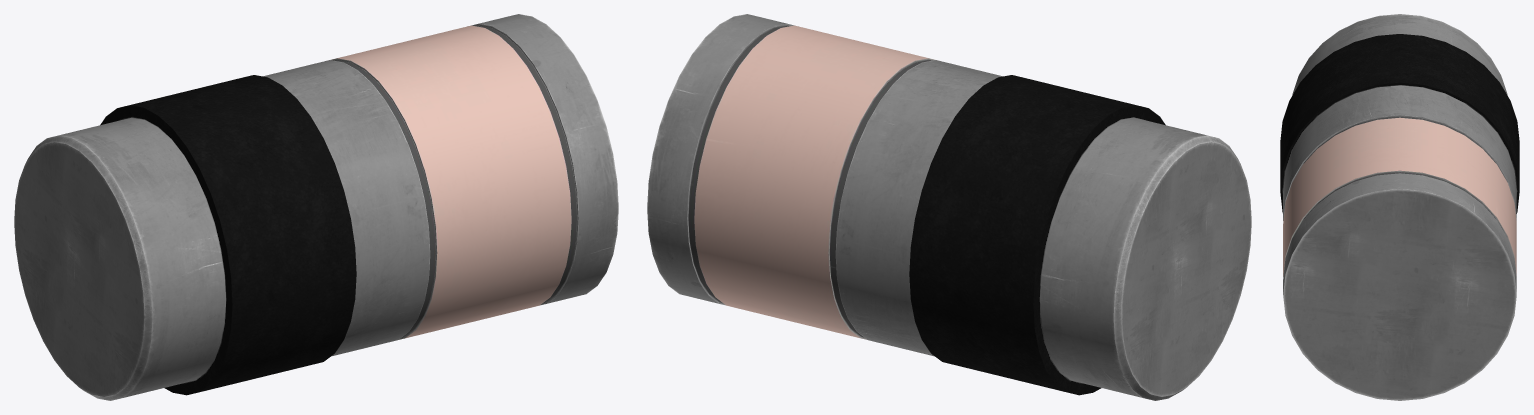
File: pommel_6_c_c.glb
3 renders of one model, left to right at view 1: azimuth 30°, elevation 25°; view 2: azimuth 150°, elevation 25°; view 3: azimuth 270°, elevation 25°, orthographic. The views are drawn at different scales.
Visible parts, largest first — view 1: pommel_6_c_c_lod0; view 2: pommel_6_c_c_lod0; view 3: pommel_6_c_c_lod0.
Boxes of the visible parts, bbox=[...] form: pommel_6_c_c_lod0: bbox=[14, 14, 618, 400]; pommel_6_c_c_lod0: bbox=[647, 14, 1251, 400]; pommel_6_c_c_lod0: bbox=[1280, 14, 1519, 400].
Size of what is drawn, in the model's own units: 0.0491 by 0.027 by 0.027.
1 material, 1 textured.
